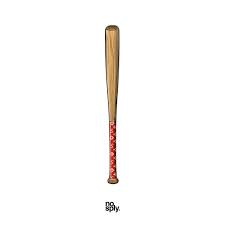bat: (103, 23, 121, 186)
